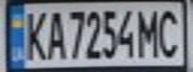2: (84, 6, 103, 60)
4: (115, 6, 139, 58)
5: (100, 6, 121, 58)
7: (66, 7, 84, 60)
A: (42, 7, 69, 61)
C: (157, 4, 187, 58)
K: (21, 7, 48, 61)
M: (136, 4, 163, 58)
